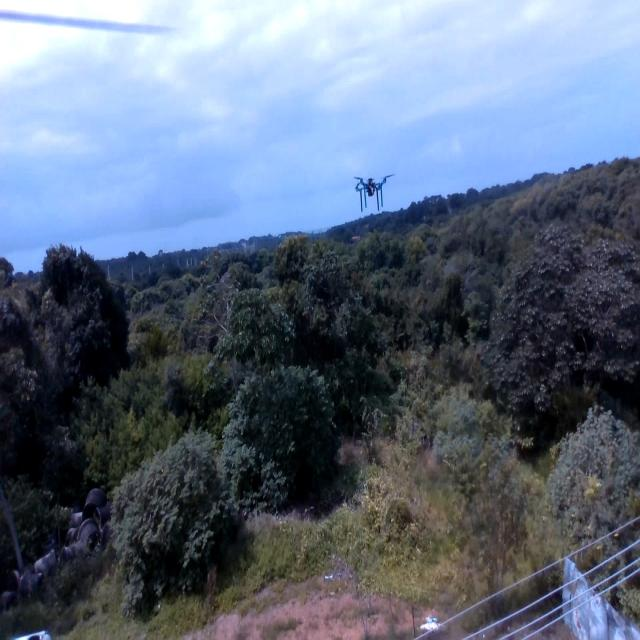-uav-: (348, 162, 398, 220)
